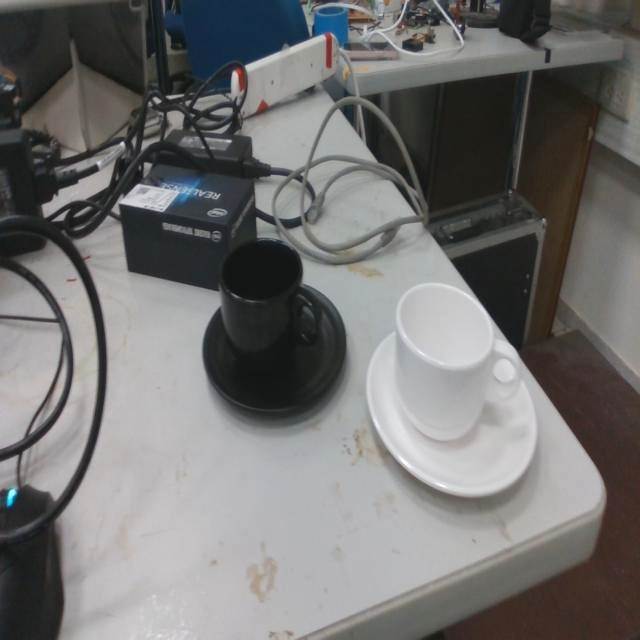black: (201, 235, 347, 424)
white: (364, 278, 540, 503)
